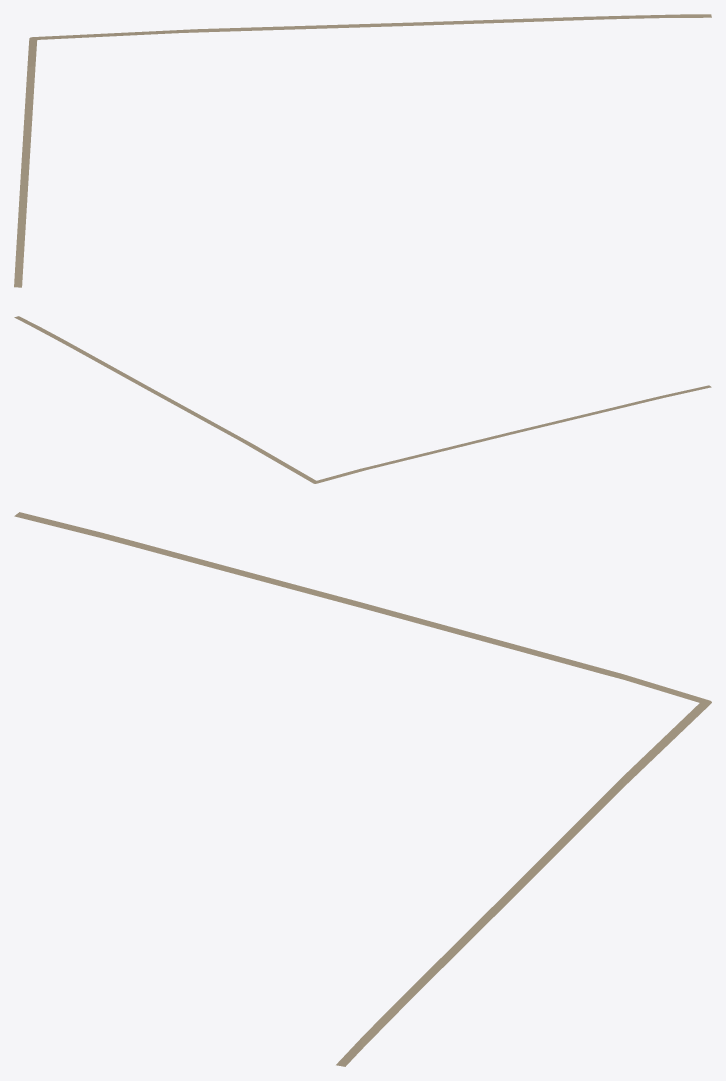
The model's file is farm_9_6_track.glb.
The picture shows the model from 3 angles, top to bottom: view 1: azimuth 30°, elevation 25°; view 2: azimuth 150°, elevation 25°; view 3: azimuth 270°, elevation 25°; orthographic projection. The views are drawn at different scales.
Parts seen in each view (by area): view 1: geometry_0; view 2: geometry_0; view 3: geometry_0.
Boxes of the visible parts, x1=… form: geometry_0: x1=14, y1=14, x2=711, y2=287; geometry_0: x1=14, y1=316, x2=711, y2=483; geometry_0: x1=14, y1=512, x2=711, y2=1066.
Size of the model in its own units: 386 by 7.64 by 213.
